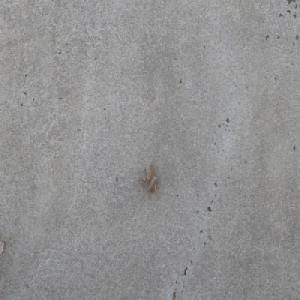Rock: (137, 160, 158, 194)
